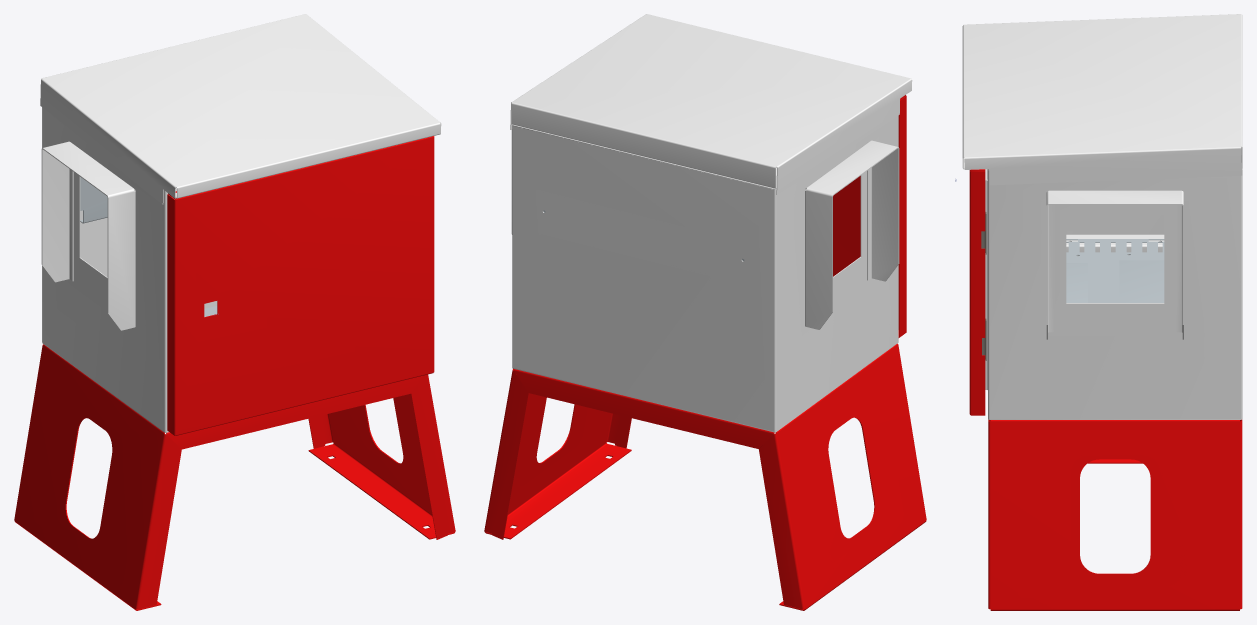
The model's file is rack-kabin.glb.
3 views of the same model, side by side, from view 1: azimuth 30°, elevation 25°; view 2: azimuth 150°, elevation 25°; view 3: azimuth 270°, elevation 25° (orthographic). The views are drawn at different scales.
Parts seen in each view (by area): view 1: body383219, body330965, body335769, body320975, body384775, body377328; view 2: body320975, body330965, body335769, body384775, body383219; view 3: body320975, body330965, body335769, body384775, body383219, body360233, body367078, body368474, body339572.
Boxes of the visible parts, x1,y1,x2,y2 form: body383219: (167,136,434,435); body330965: (40,14,441,204); body335769: (14,344,455,610); body320975: (42,107,172,431); body384775: (41,141,135,330); body377328: (80,177,107,223); body320975: (512,115,898,431); body330965: (510,14,912,194); body335769: (484,343,926,610); body384775: (805,140,899,329); body383219: (833,95,906,337); body320975: (985,170,1242,418); body330965: (962,14,1242,185); body335769: (988,419,1242,610); body384775: (1046,190,1183,339); body383219: (969,169,985,415); body360233: (1066,239,1164,302); body367078: (1119,260,1164,302); body368474: (1066,234,1164,252); body339572: (1066,263,1087,302).
Size of the model in its own units: 486 by 636 by 367.
